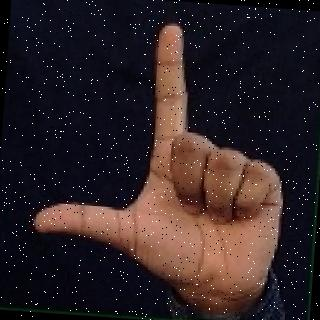L: (36, 2, 304, 315)
